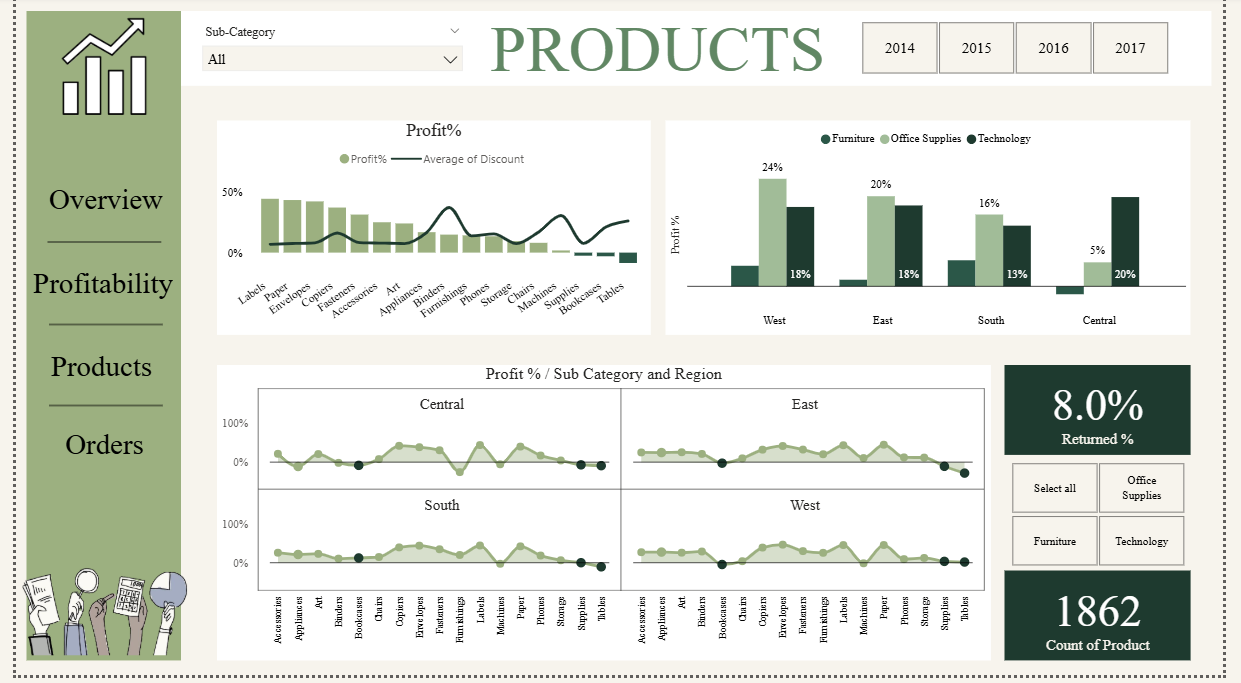

The page's visual inventory and layout, read from the dashboard file:
{"tool":"powerbi","page":{"name":"Product","canvas":[1280,720],"ordinal":2},"visuals":[{"type":"shape","box":[11.1,15.9,163.8,688.7],"z":0},{"type":"image","box":[6.4,17.5,175,114.5],"z":1000},{"type":"image","box":[0,583.2,187.7,136.8],"z":2000},{"type":"shape","box":[175,15.9,1092.7,79.5],"z":3000},{"type":"slicer","fields":{"Values":["Calender.Year"]},"box":[871.7,20.7,373.8,68.4],"z":4000},{"type":"textbox","title":"PRODUCTS","box":[497.9,17.5,373.8,77.9],"z":5000},{"type":"lineStackedColumnComboChart","title":"Profit%","fields":{"Category":["super_store_datasets.Sub-Category"],"Y":["super_store_datasets.___profit vs sales"],"Y2":["Avg(super_store_datasets.Discount)"]},"box":[213.1,132,459.7,227.5],"z":6000},{"type":"card","fields":{"Values":["Count(super_store_datasets.Product ID)"]},"box":[1048.2,609.2,197.2,95.4],"z":7000},{"type":"card","fields":{"Values":["super_store_datasets.___returned"]},"box":[1048.2,391.3,197.2,95.4],"z":8000},{"type":"clusteredColumnChart","fields":{"Category":["super_store_datasets.Region"],"Series":["super_store_datasets.Category"],"Y":["super_store_datasets.___profit vs sales"]},"box":[688.7,132,556.7,227.5],"z":9000},{"type":"lineChart","title":"Profit % / Sub Category and Region","fields":{"Category":["super_store_datasets.Sub-Category"],"Y":["super_store_datasets.___profit vs sales"],"Rows":["super_store_datasets.Region"]},"box":[213.1,391.3,820.8,313.4],"z":10000},{"type":"slicer","fields":{"Values":["super_store_datasets.Sub-Category"]},"box":[187.7,25.4,295.9,60.4],"z":11000},{"type":"slicer","fields":{"Values":["super_store_datasets.Category"]},"box":[1030.7,488.3,232.2,122.5],"z":12000},{"type":"actionButton","box":[22.3,453.3,143.2,41.4],"z":13000},{"type":"shape","box":[35,412,120.9,44.5],"z":14000},{"type":"actionButton","box":[19.1,370.6,143.2,41.4],"z":15000},{"type":"shape","box":[35,324.5,120.9,47.7],"z":16000},{"type":"actionButton","box":[11.1,283.1,162.2,41.4],"z":17000},{"type":"shape","box":[33.4,238.6,120.9,44.5],"z":18000},{"type":"actionButton","box":[14.3,194.1,162.2,41.4],"z":19000}]}

Visuals, with their boxes in screenshot pixels (x1, y1, x2, y2), scaled from the page's 1280x720 canvas onto the 1241x683 screenshot:
shape: (x1=11, y1=15, x2=170, y2=668)
image: (x1=6, y1=17, x2=176, y2=125)
image: (x1=0, y1=553, x2=182, y2=682)
shape: (x1=170, y1=15, x2=1229, y2=90)
slicer - Calender.Year: (x1=845, y1=20, x2=1208, y2=85)
"PRODUCTS" textbox: (x1=483, y1=17, x2=845, y2=90)
"Profit%" lineStackedColumnComboChart: (x1=207, y1=125, x2=652, y2=341)
card - Count(super_store_datasets.Product ID): (x1=1016, y1=578, x2=1207, y2=668)
card - super_store_datasets.___returned: (x1=1016, y1=371, x2=1207, y2=462)
clusteredColumnChart - super_store_datasets.Region x super_store_datasets.Category: (x1=668, y1=125, x2=1207, y2=341)
"Profit % / Sub Category and Region" lineChart: (x1=207, y1=371, x2=1002, y2=668)
slicer - super_store_datasets.Sub-Category: (x1=182, y1=24, x2=469, y2=81)
slicer - super_store_datasets.Category: (x1=999, y1=463, x2=1224, y2=579)
actionButton: (x1=22, y1=430, x2=160, y2=469)
shape: (x1=34, y1=391, x2=151, y2=433)
actionButton: (x1=19, y1=352, x2=157, y2=391)
shape: (x1=34, y1=308, x2=151, y2=353)
actionButton: (x1=11, y1=269, x2=168, y2=308)
shape: (x1=32, y1=226, x2=150, y2=269)
actionButton: (x1=14, y1=184, x2=171, y2=223)
